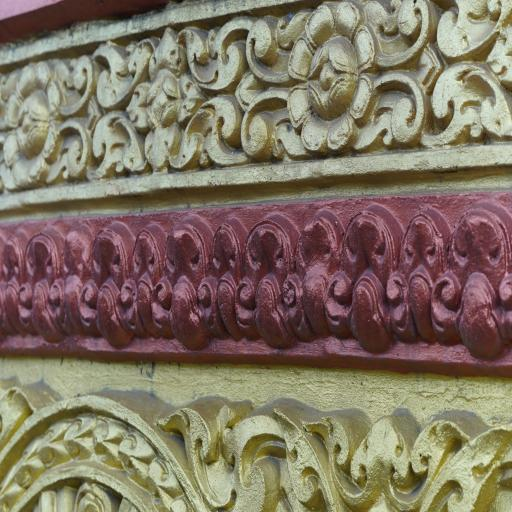hoa: (8, 384, 206, 512), (282, 4, 384, 155), (124, 42, 202, 162), (1, 59, 68, 179)
la: (446, 194, 511, 352), (382, 64, 512, 142), (338, 198, 398, 344), (241, 212, 302, 348), (291, 213, 352, 334), (387, 4, 505, 65), (396, 208, 447, 342), (198, 22, 292, 91), (160, 216, 214, 336), (52, 112, 146, 180), (201, 94, 291, 163), (22, 218, 68, 345), (284, 410, 350, 498), (63, 39, 143, 111), (356, 412, 414, 508), (205, 223, 254, 335), (95, 216, 133, 342), (130, 216, 167, 338), (62, 224, 100, 336), (420, 416, 471, 484), (1, 232, 30, 335)
